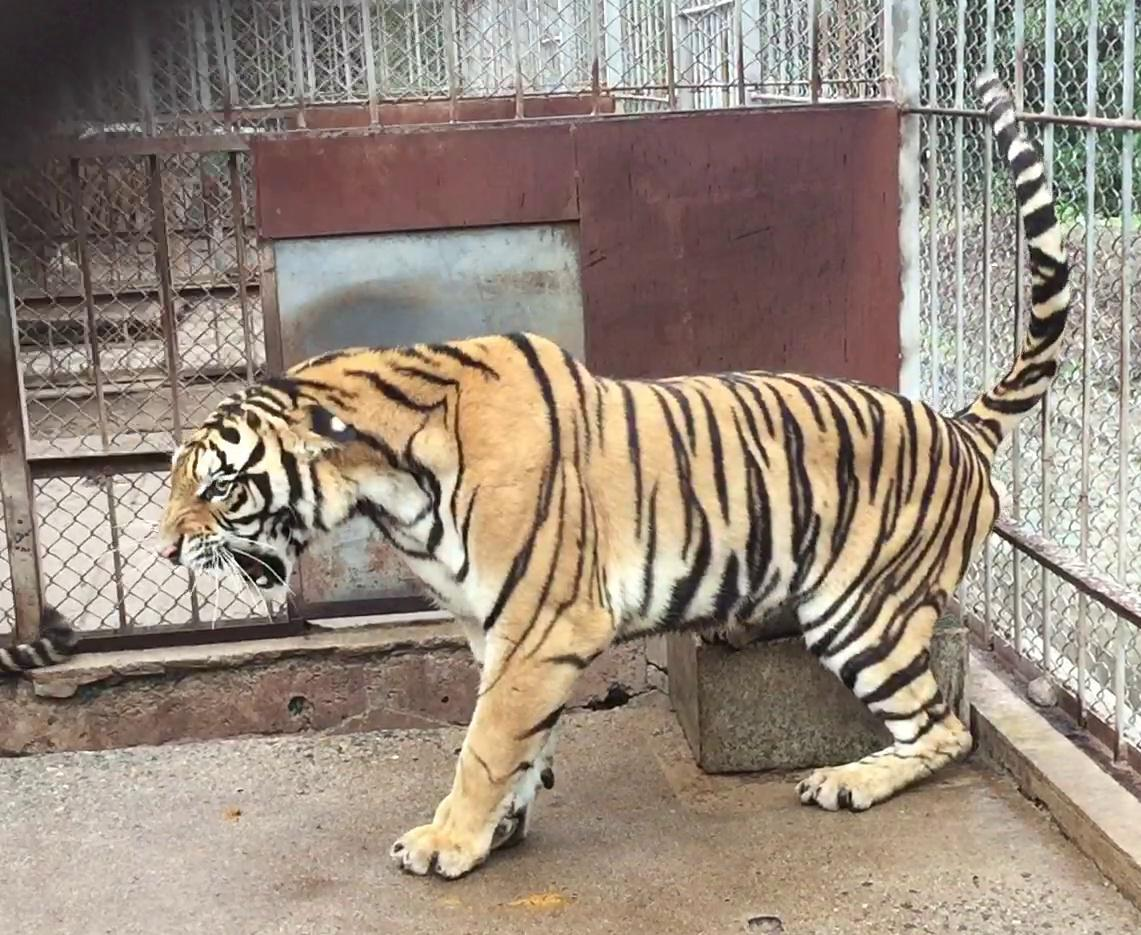tiger: (161, 77, 1068, 878)
